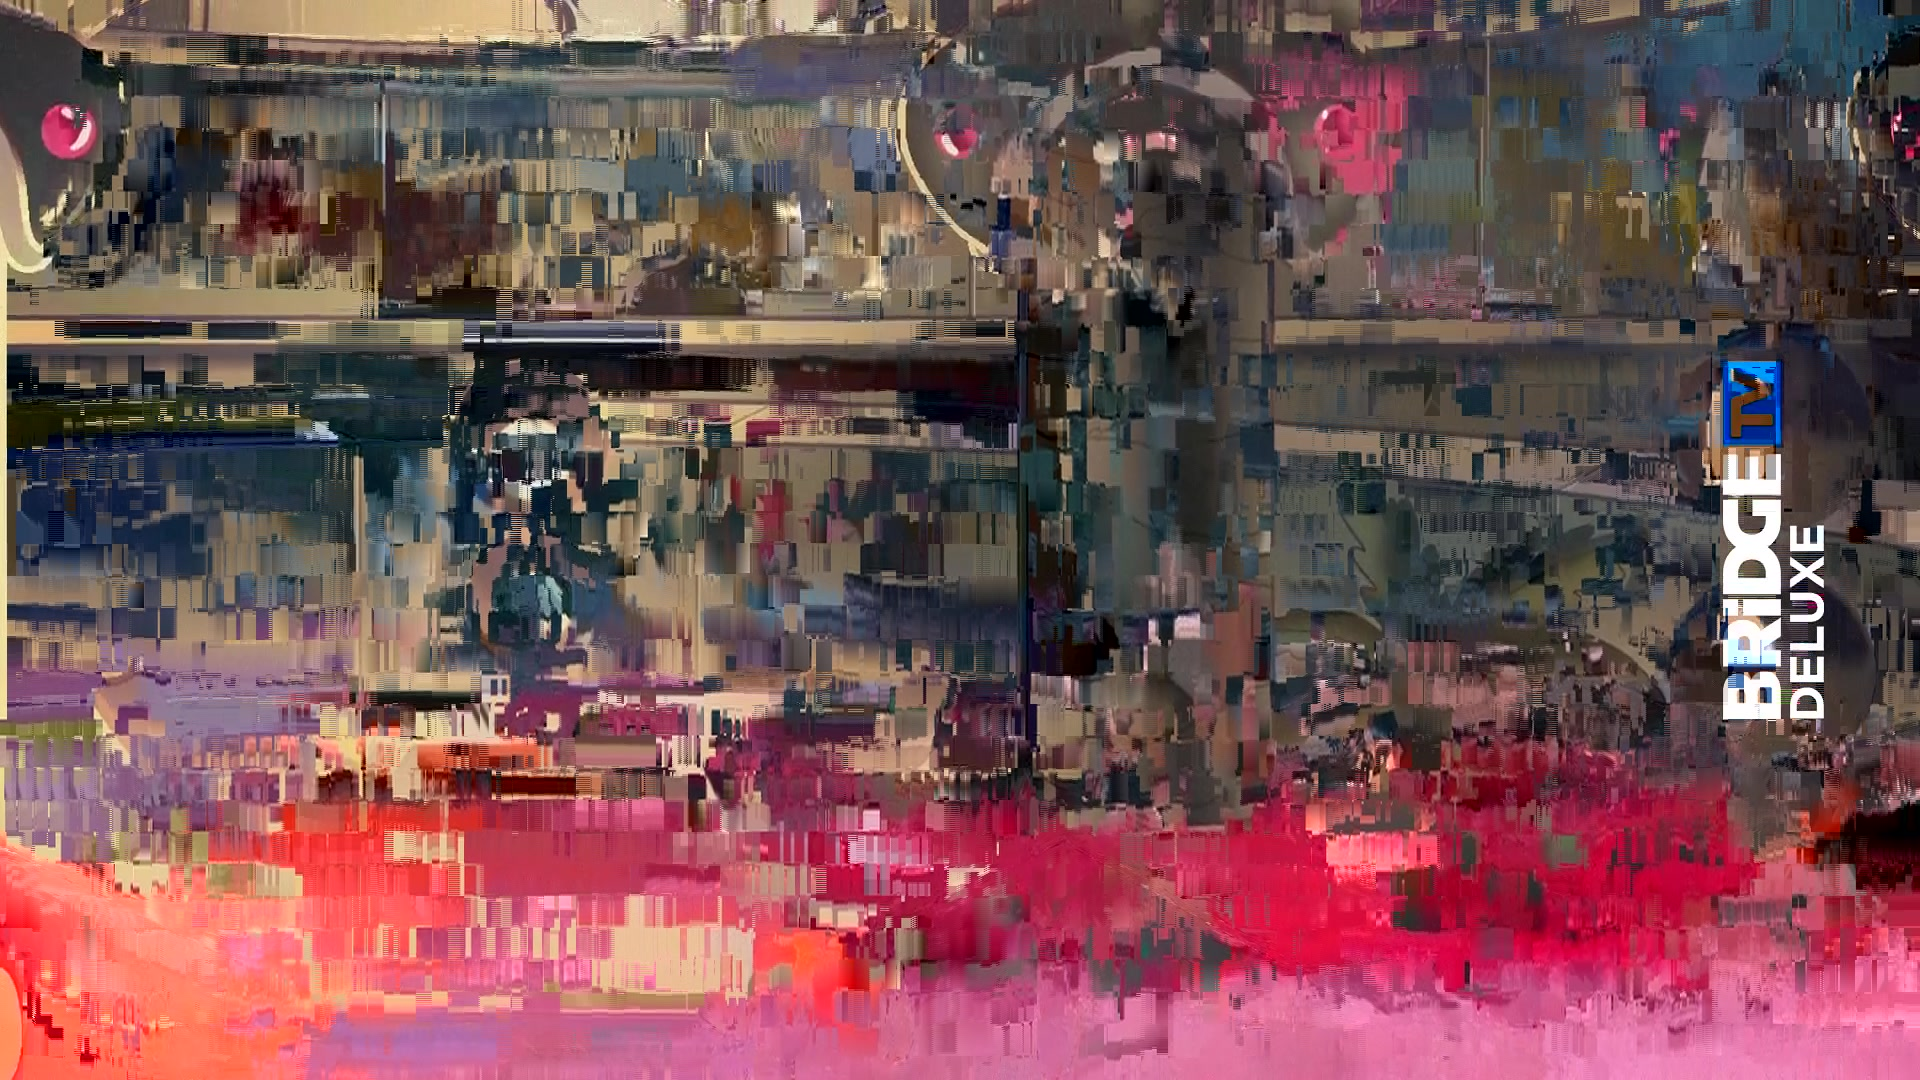Bridge_TV_Deluxe: (1716, 355, 1833, 727)
